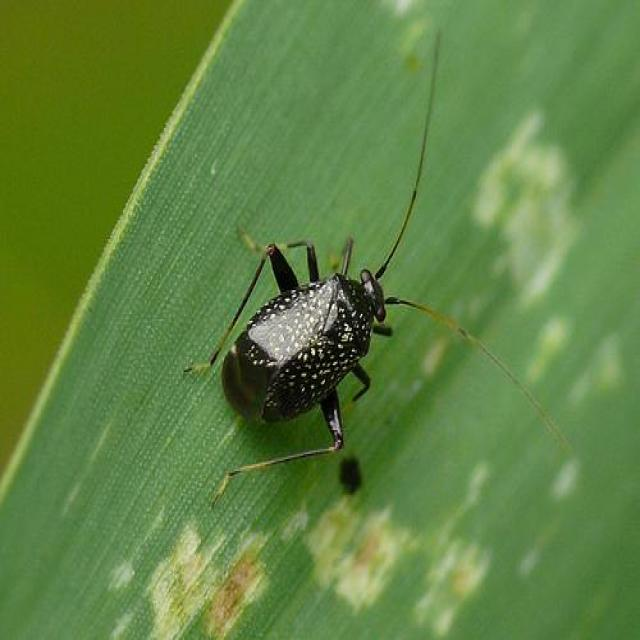Miridae-Adult-: (167, 26, 496, 493)
